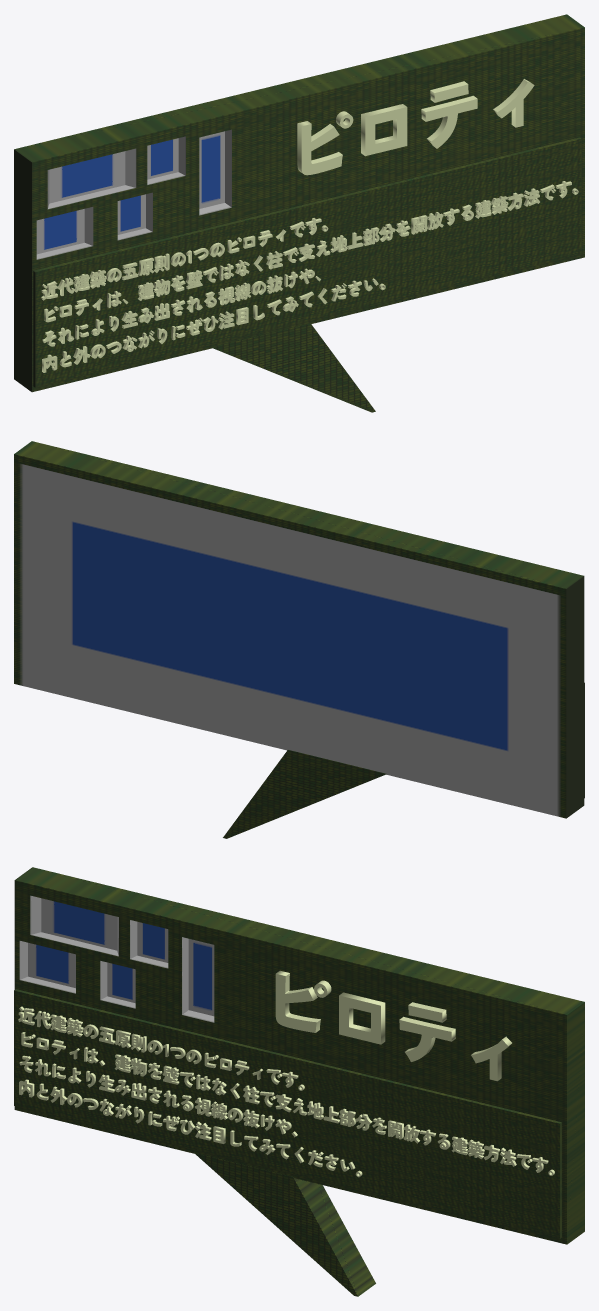
File: fukidasi-pirotey.glb
The picture shows the model from 3 angles, top to bottom: view 1: azimuth 30°, elevation 25°; view 2: azimuth 150°, elevation 25°; view 3: azimuth 330°, elevation 25°; orthographic projection.
Parts seen in each view (by area): view 1: 立方体, 立方体.002, テキスト, テキスト.002, 立方体.001; view 2: 立方体, 立方体.001; view 3: 立方体, 立方体.002, テキスト, 立方体.001, テキスト.002.
Part boxes in pixels (bbox=[...]): 立方体: bbox=[14, 14, 584, 392]; 立方体.002: bbox=[33, 137, 581, 387]; テキスト: bbox=[41, 181, 578, 372]; テキスト.002: bbox=[297, 79, 534, 175]; 立方体.001: bbox=[211, 323, 375, 412]; 立方体: bbox=[14, 441, 584, 818]; 立方体.001: bbox=[223, 750, 386, 838]; 立方体: bbox=[14, 867, 584, 1244]; 立方体.002: bbox=[14, 989, 561, 1238]; テキスト: bbox=[18, 1006, 554, 1177]; 立方体.001: bbox=[194, 1152, 375, 1296]; テキスト.002: bbox=[275, 970, 511, 1081].
Bounding box in the file's own units: 11.12 × 6.4 × 0.7737.
4 materials, 3 textured.
